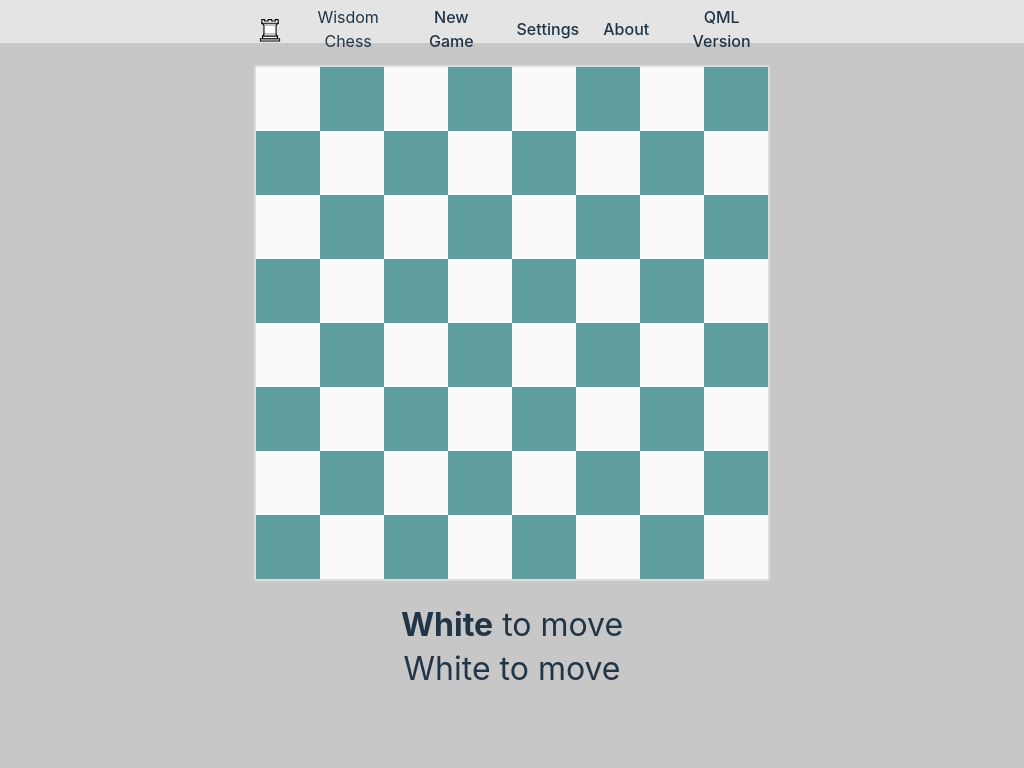
Test: Engine interface › applies the choices made in the settings dialog
Click the link "Settings" at [548, 29], box left=516, top=17, right=579, bottom=41
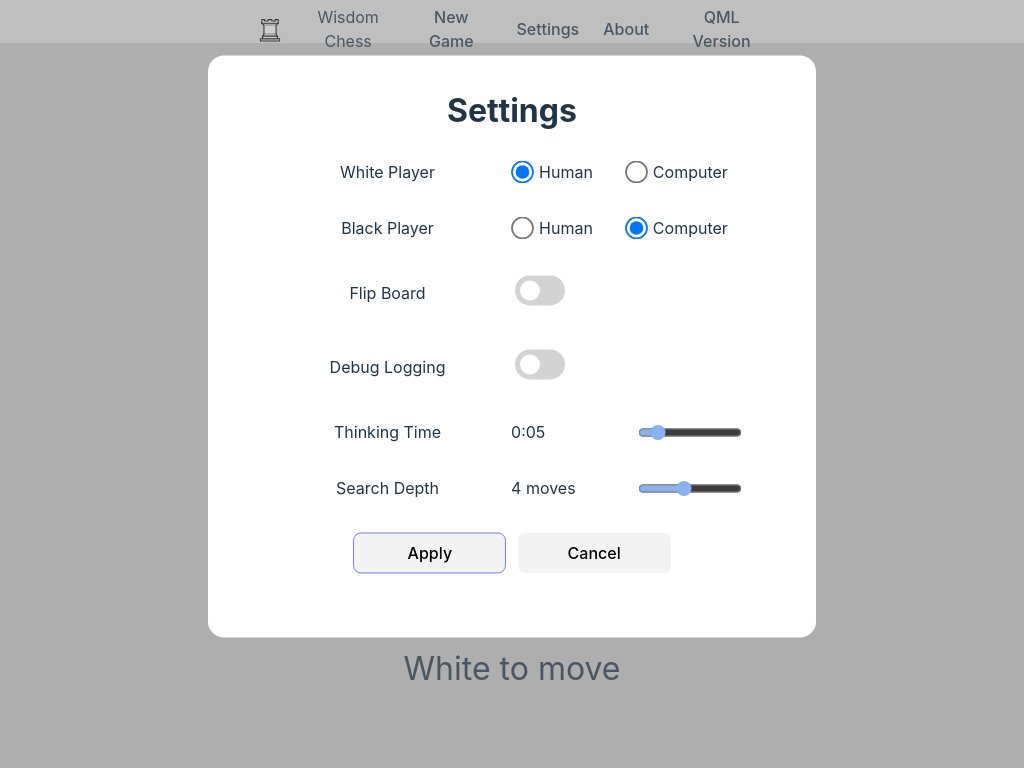
Click the 1st radio button labelled "Computer" at [636, 172], box left=625, top=161, right=648, bottom=183
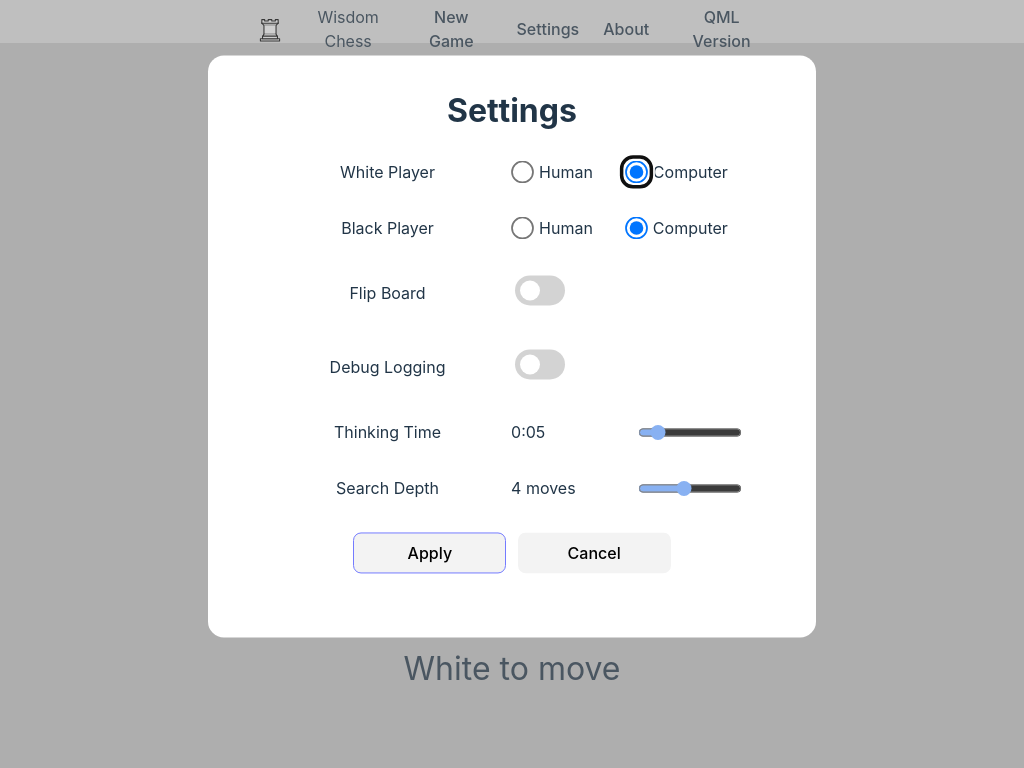
Click the 2nd radio button labelled "Human" at [523, 228], box left=511, top=217, right=534, bottom=239
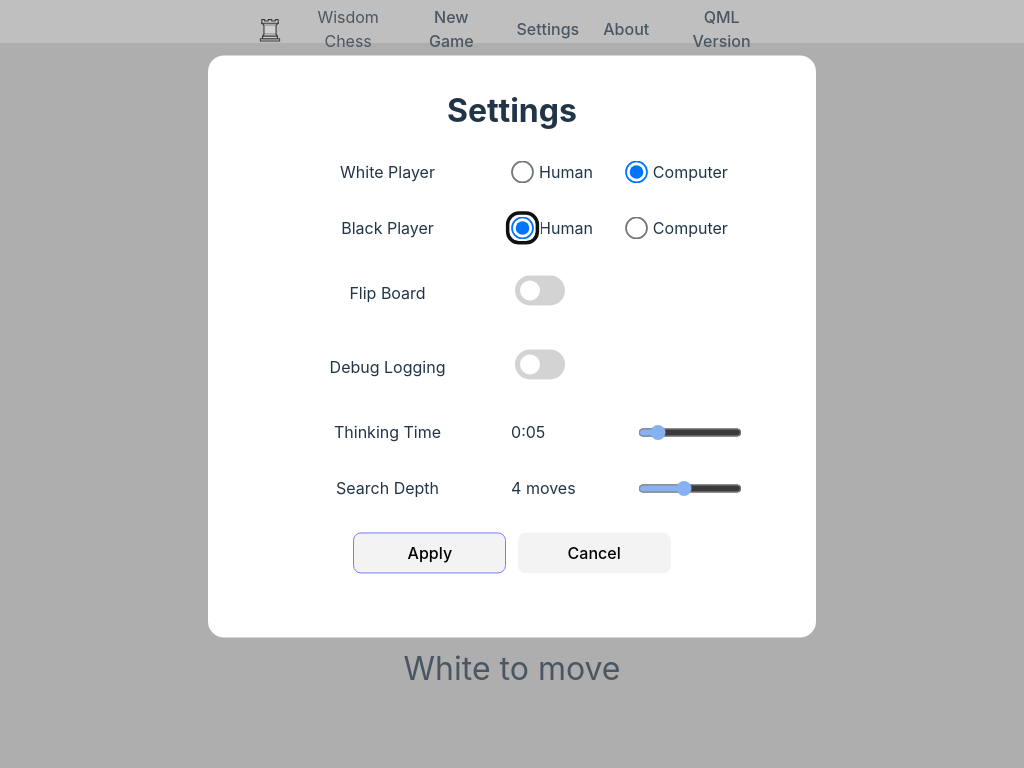
Click the 2nd checkbox named "debugLogging" at [540, 364], box left=515, top=350, right=565, bottom=380
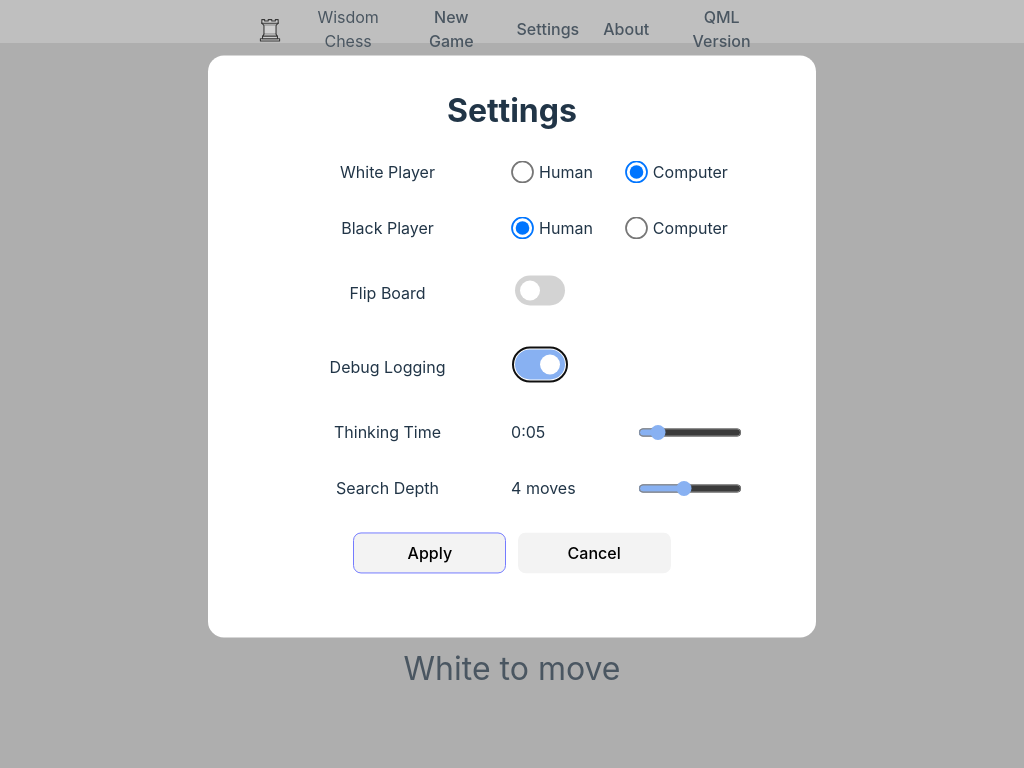
Click the 1st checkbox named "flipped" at [540, 290], box left=515, top=276, right=565, bottom=306
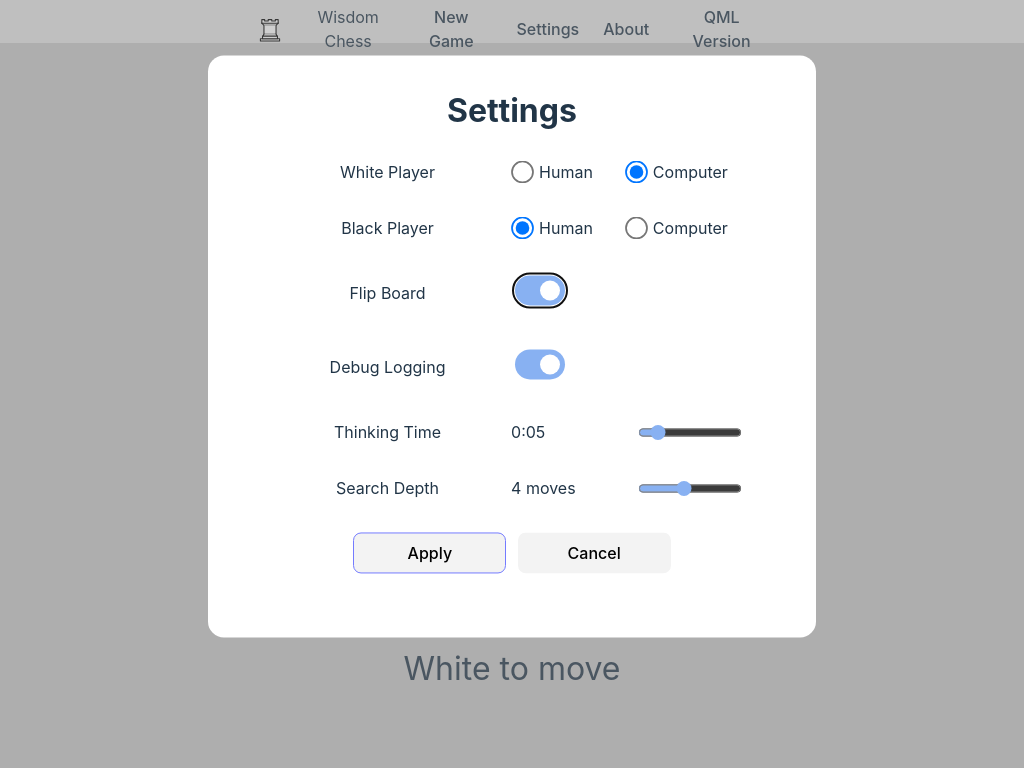
Click the button "Apply" at [430, 553], box left=353, top=532, right=506, bottom=574
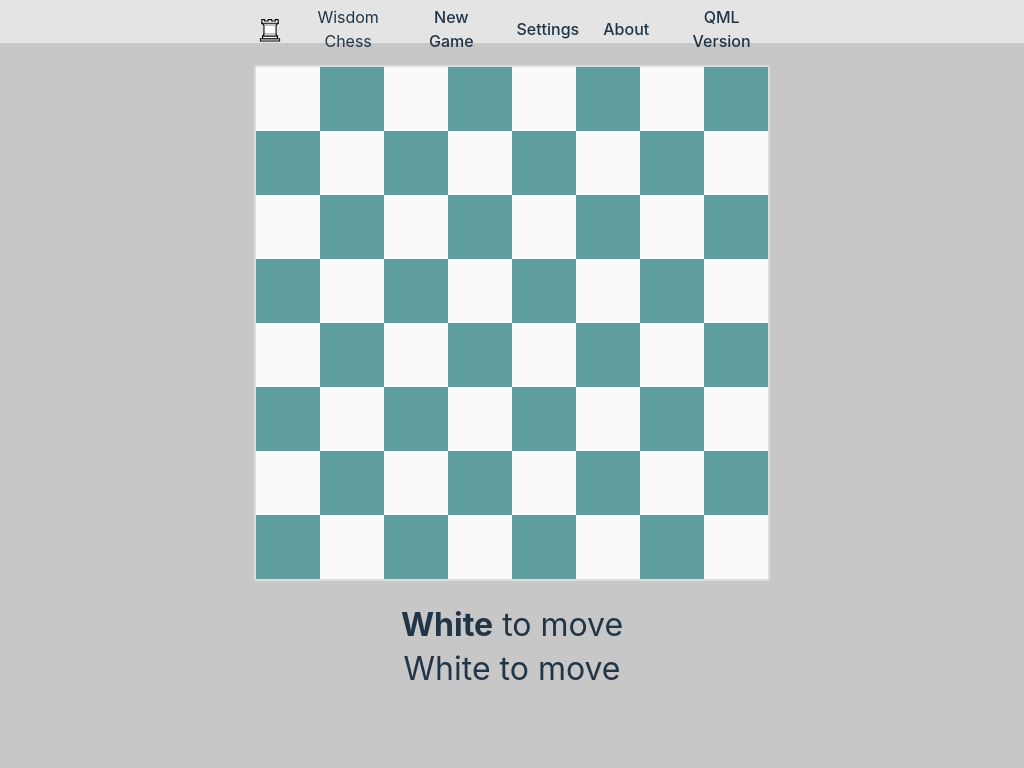
Expected: the element with class "flipped" is shown, left=254, top=65, right=770, bottom=581
